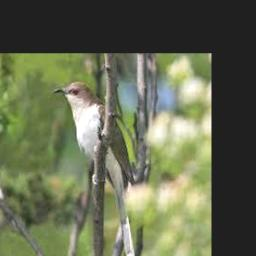Cuckoo: (53, 81, 136, 256)
